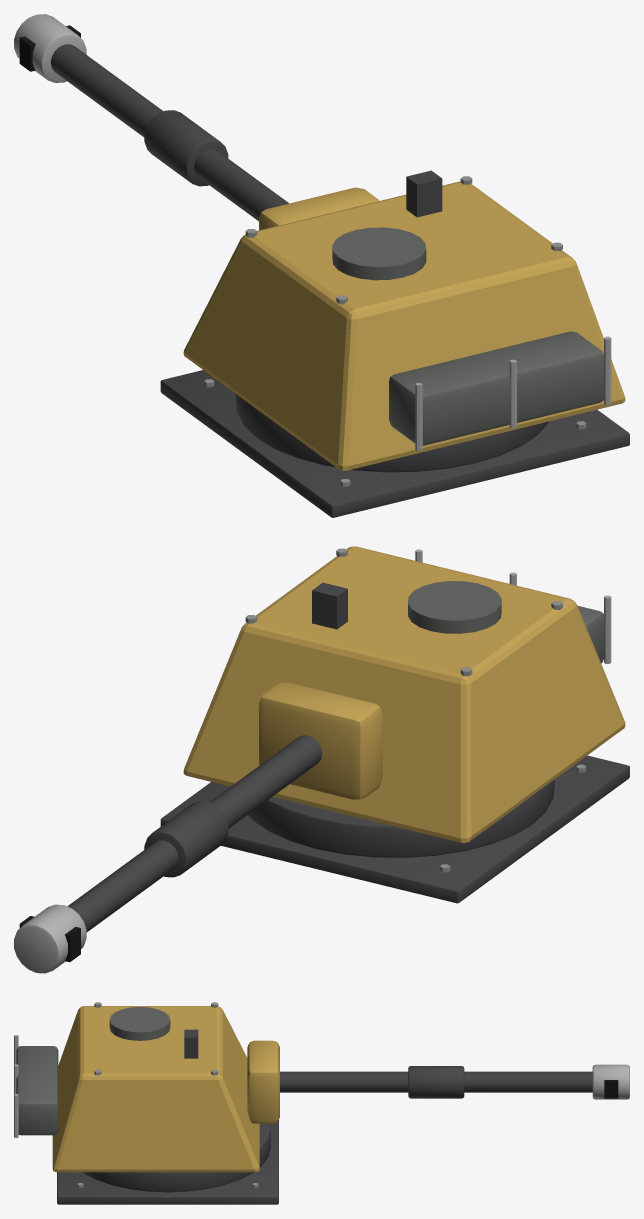
Rendered from cannon.glb.
The picture shows the model from 3 angles, top to bottom: view 1: azimuth 30°, elevation 25°; view 2: azimuth 150°, elevation 25°; view 3: azimuth 270°, elevation 25°; orthographic projection. The views are drawn at different scales.
Visible parts, largest first — view 1: Turret, Part, Gun; view 2: Turret, Gun, Part; view 3: Turret, Gun, Part.
Boxes of the visible parts, x1,y1,x2,y2 form: Turret: [183, 170, 625, 470]; Part: [160, 370, 629, 517]; Gun: [14, 14, 379, 230]; Turret: [183, 546, 625, 843]; Gun: [14, 682, 382, 973]; Part: [160, 755, 629, 903]; Turret: [14, 1002, 259, 1172]; Gun: [247, 1040, 629, 1123]; Part: [57, 1120, 278, 1204].
Size of the model in its own units: 0.95 by 0.66 by 2.64.
